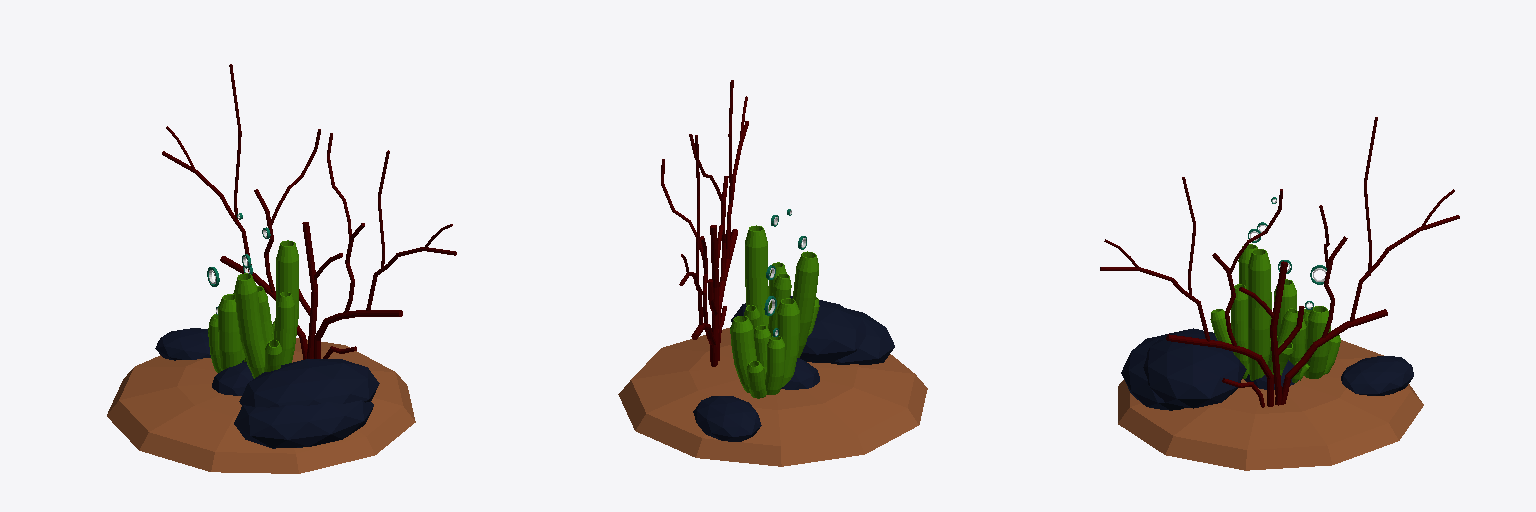
The model's file is Coral_438.obj.
The picture shows the model from 3 angles: view 1: azimuth 30°, elevation 25°; view 2: azimuth 150°, elevation 25°; view 3: azimuth 270°, elevation 25°; orthographic projection.
Visible parts, largest first — view 1: Sphere001, GeoSphere001, GeoSphere002, Tube010, GeoSphere004, Tube001, Tube012, Tube007, GeoSphere003, Line006, Line003, Line015 (+2 smaller); view 2: Sphere001, GeoSphere001, GeoSphere004, Tube012, Tube010, GeoSphere002, Tube001, Tube006, Tube002, Line006, GeoSphere003, Tube005 (+1 smaller); view 3: Sphere001, GeoSphere001, Tube012, GeoSphere004, GeoSphere002, Tube006, Tube007, Line003, Line001, Line006, Line015, Line019.
Boxes of the visible parts, <box> form: Sphere001: <box>107,338,415,473</box>; GeoSphere001: <box>239,359,379,407</box>; GeoSphere002: <box>234,400,373,448</box>; Tube010: <box>234,273,265,378</box>; GeoSphere004: <box>155,328,210,360</box>; Tube001: <box>218,294,241,370</box>; Tube012: <box>274,240,298,362</box>; Tube007: <box>276,292,294,364</box>; GeoSphere003: <box>212,360,253,395</box>; Line006: <box>302,222,317,358</box>; Line003: <box>314,310,402,358</box>; Line015: <box>162,151,251,269</box>; Sphere001: <box>618,328,927,466</box>; GeoSphere001: <box>731,296,865,362</box>; GeoSphere004: <box>693,396,761,441</box>; Tube012: <box>745,225,769,327</box>; Tube010: <box>792,251,818,357</box>; GeoSphere002: <box>831,308,894,364</box>; Tube001: <box>777,298,799,387</box>; Tube006: <box>730,316,756,392</box>; Tube002: <box>765,336,784,394</box>; Line006: <box>710,225,718,364</box>; GeoSphere003: <box>781,358,819,389</box>; Tube005: <box>746,361,766,398</box>; Sphere001: <box>1118,340,1423,470</box>; GeoSphere001: <box>1143,328,1246,408</box>; Tube012: <box>1248,249,1270,380</box>; GeoSphere004: <box>1341,356,1413,395</box>; GeoSphere002: <box>1121,335,1187,410</box>; Tube006: <box>1304,306,1330,378</box>; Tube007: <box>1231,284,1248,378</box>; Line003: <box>1166,334,1273,406</box>; Line001: <box>1281,309,1387,404</box>; Line006: <box>1270,261,1287,405</box>; Line015: <box>1350,215,1459,321</box>; Line019: <box>1100,267,1210,341</box>.
Bounding box in the file's own units: 89.58 × 95.94 × 104.